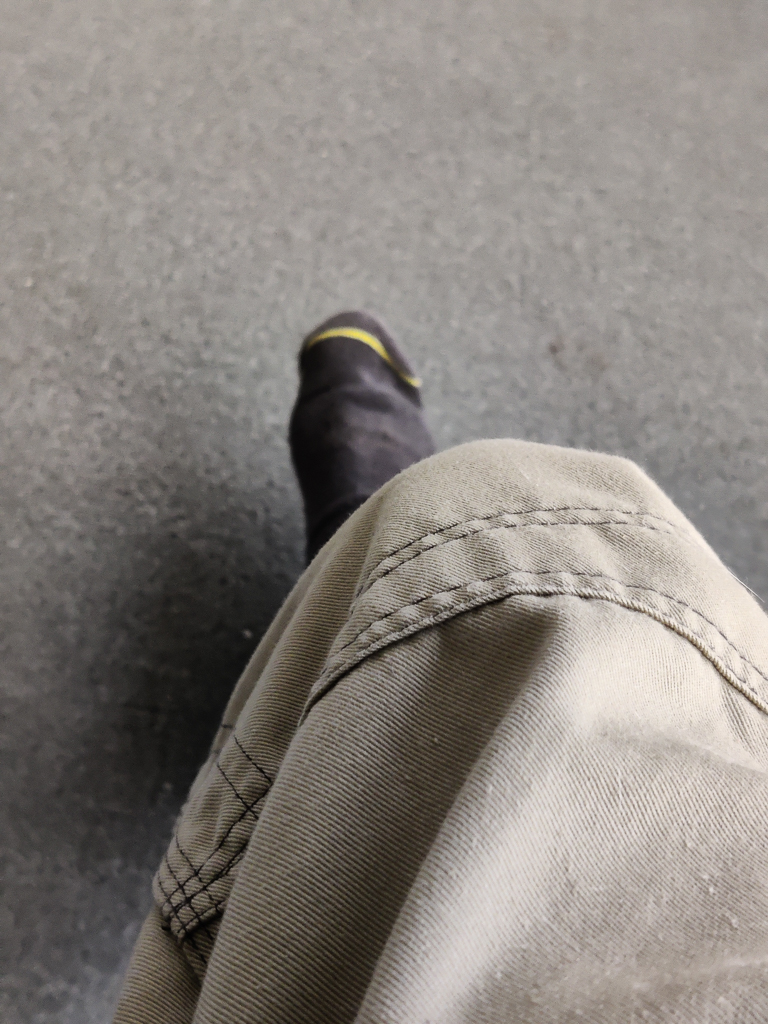Humanoid: (98, 277, 768, 1024)
